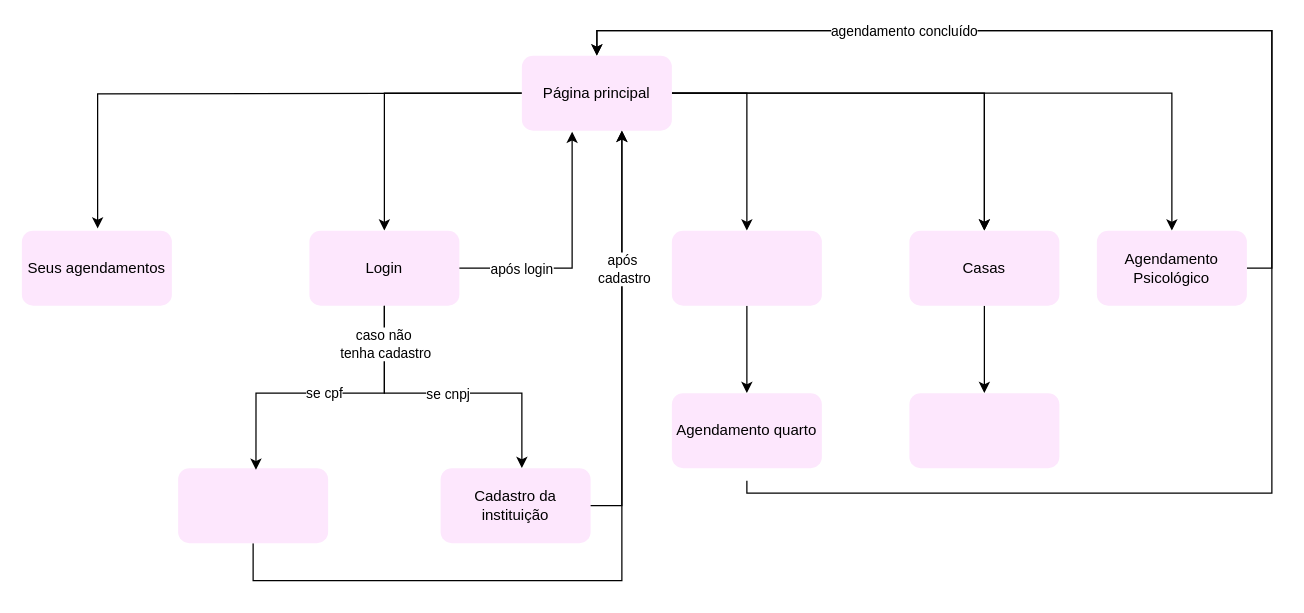
Image size: 1304x613. Some labels were removed from this diagram. The shapes that lost their labels are listed below. From the top down, each one's centre as x and y in pixels, then its label:
the point at 746,267: Alojamentos/Quartos
the point at 984,430: Doações
the point at 253,505: Cadastro do usuário
